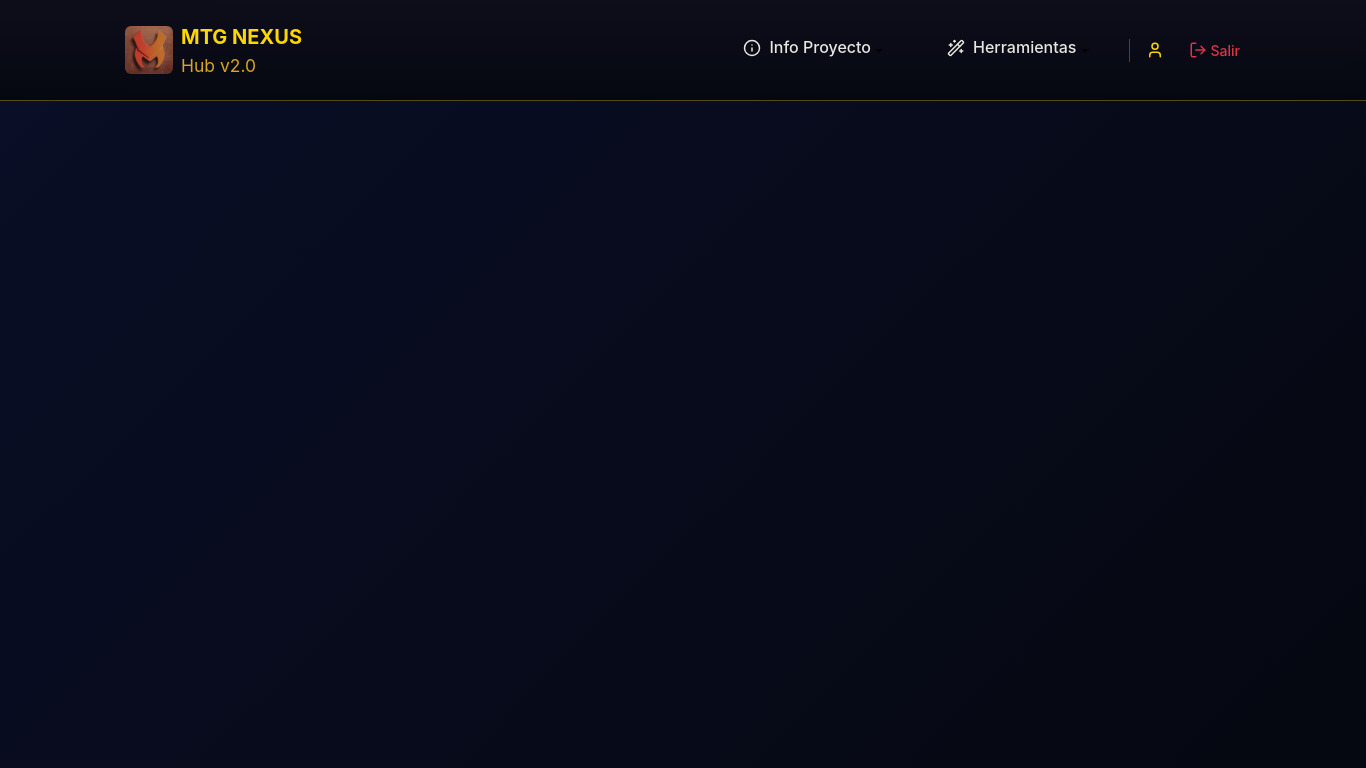
it: Navbar Component - v2.0 MTG Branding (Bootstrap) › Usuario autenticado › debería mostrar enlace "Mazos"
This screenshot has width=1366, height=768.
Click the button "Herramientas" at point(1012, 47), box [947,37,1076,57]
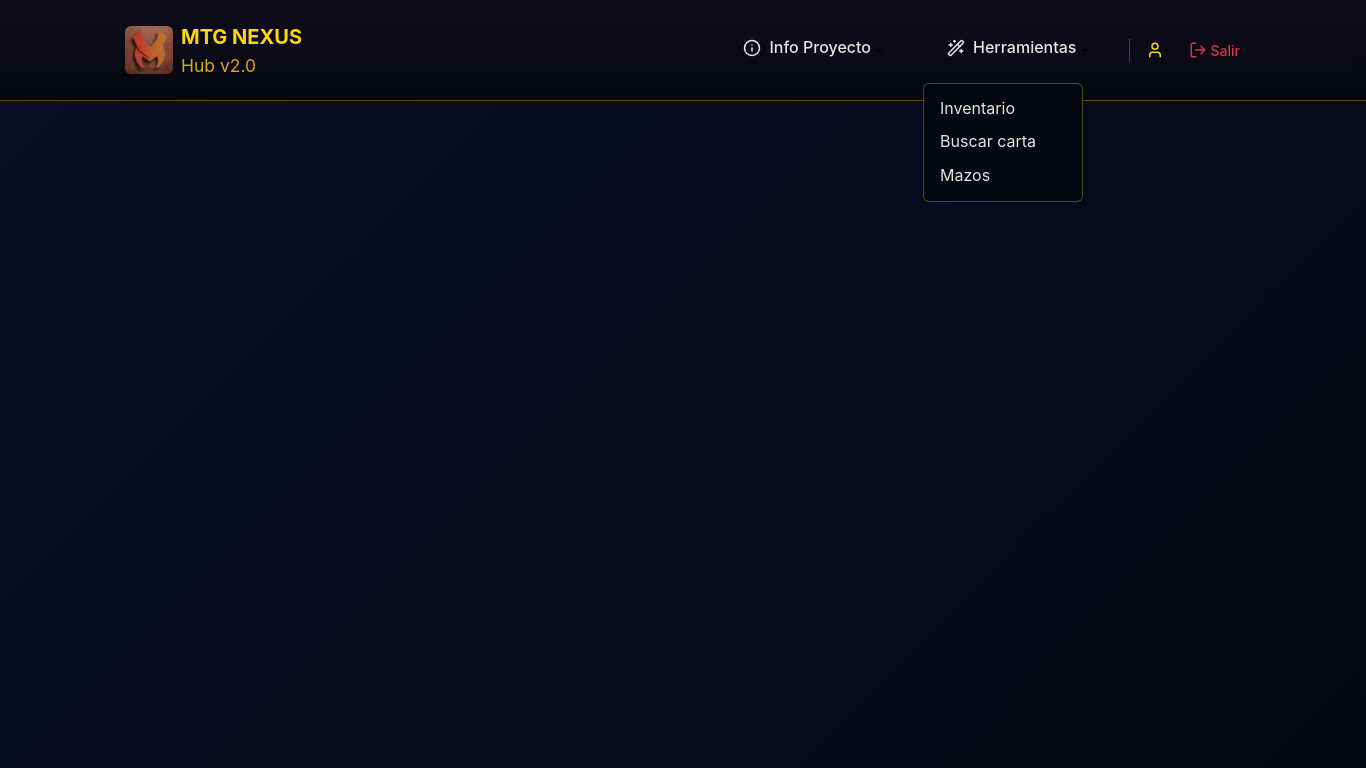
Check: the link "Mazos" is shown, box [940,165,990,185]
